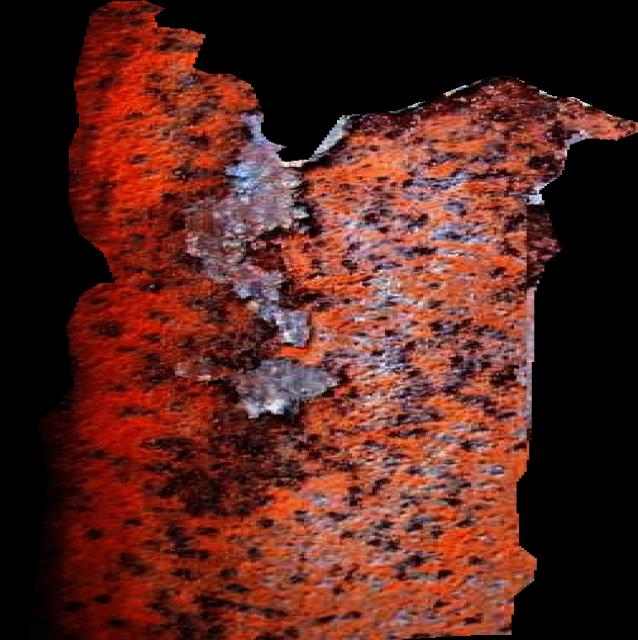Pitting Corrosion: (1, 0, 638, 640)
